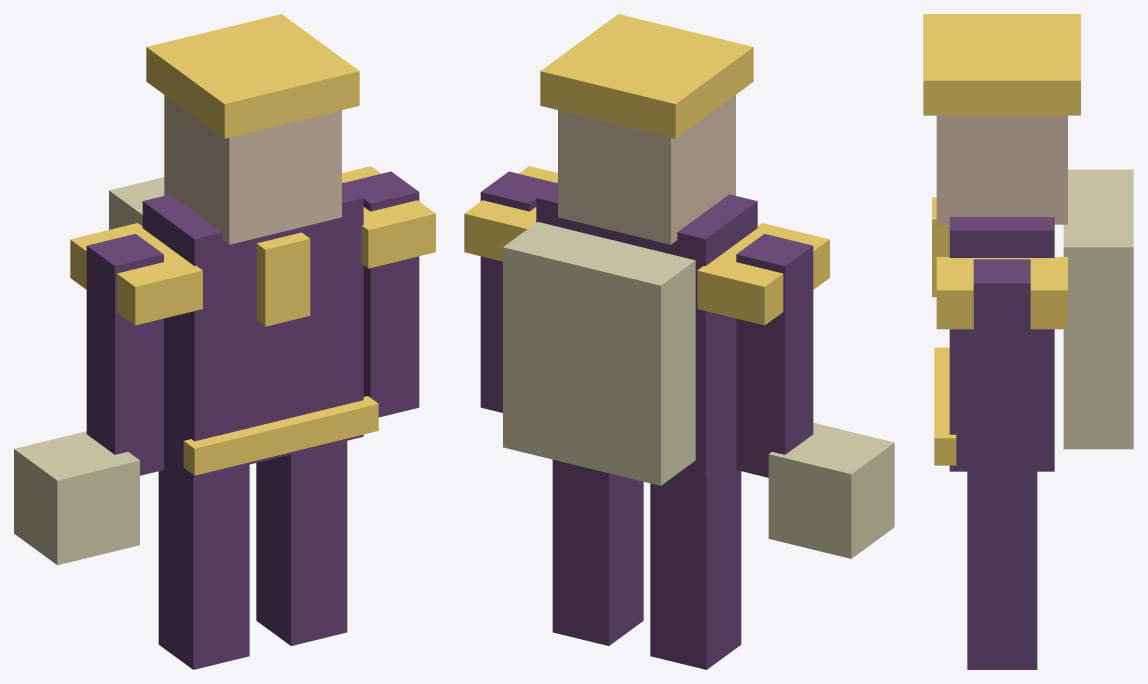
The model's file is 03_maelis_rootborne_engineer_of_transit.glb.
3 views of the same model, side by side, from view 1: azimuth 30°, elevation 25°; view 2: azimuth 150°, elevation 25°; view 3: azimuth 270°, elevation 25° (orthographic).
Visible parts, largest first — view 1: Maelis Rootborne, Engineer of Transit; view 2: Maelis Rootborne, Engineer of Transit; view 3: Maelis Rootborne, Engineer of Transit.
Part boxes in pixels (box(x1,y1,x2,y2)): Maelis Rootborne, Engineer of Transit: box(14, 14, 435, 669); Maelis Rootborne, Engineer of Transit: box(464, 14, 894, 669); Maelis Rootborne, Engineer of Transit: box(923, 14, 1133, 669).
Size of the model in its own units: 0.9679 by 1.43 by 0.4669.
